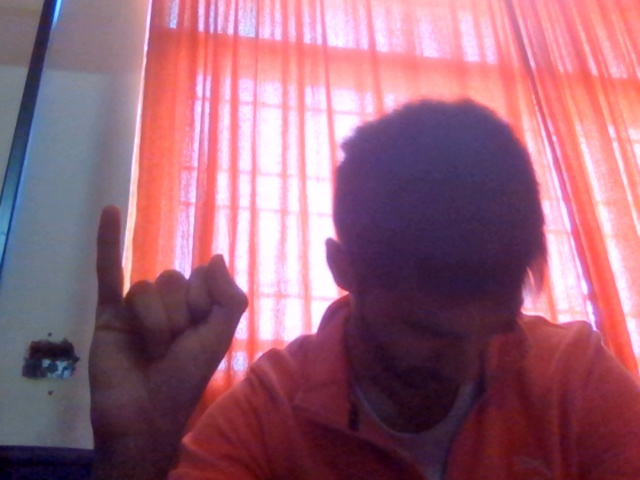I: (46, 205, 264, 480)
